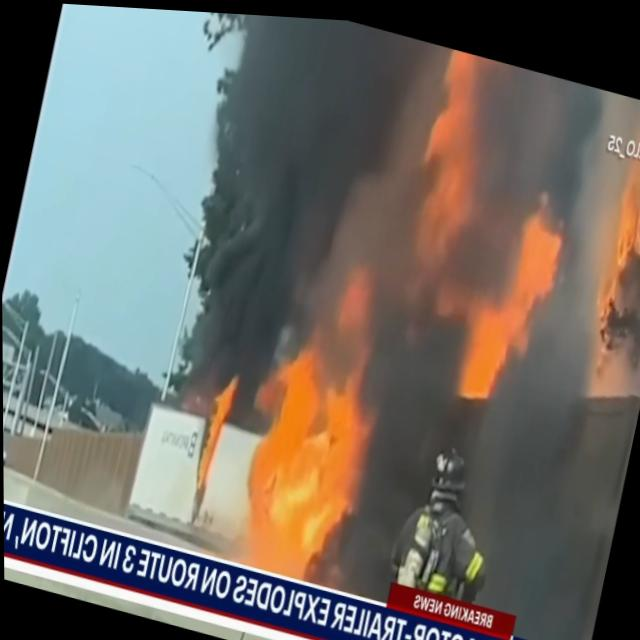Fire: (435, 190, 577, 414), (232, 366, 372, 586), (571, 156, 640, 331)
